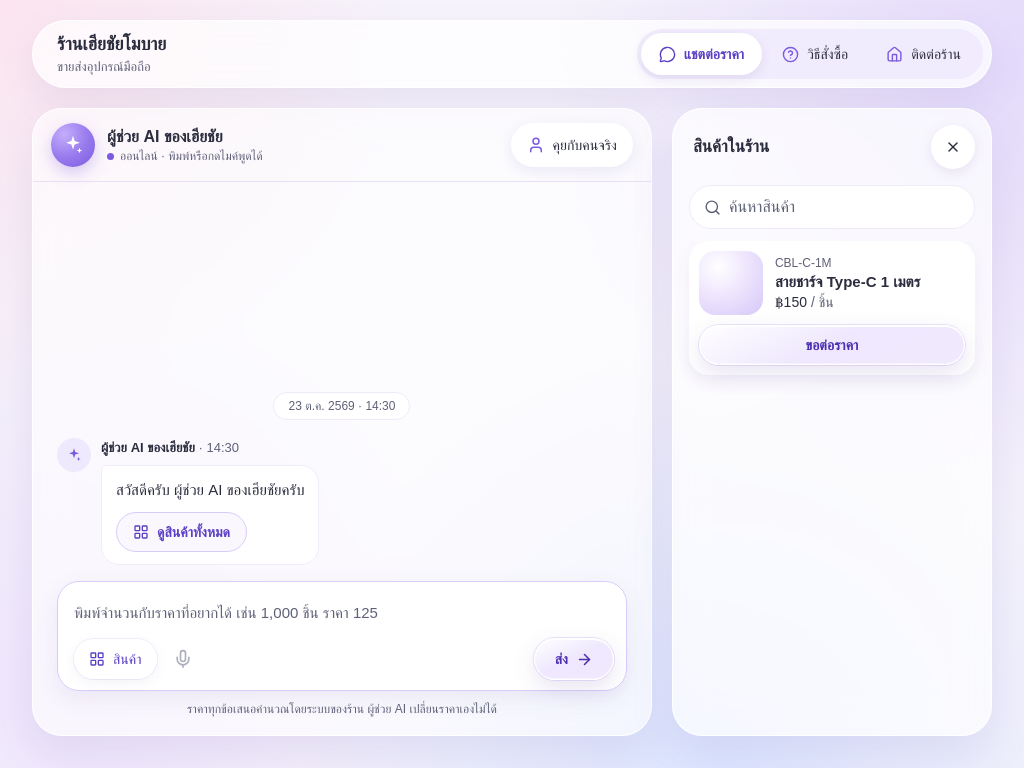
Scenario: ChatScreen — แชตจริง (ผ่าน API) › ส่งไม่สำเร็จ → บอกให้ลองใหม่ และคืนข้อความไว้ในช่องพิมพ์
Type "ขอ 125 ได้ไหม" into the field named "พิมพ์ข้อความ" at (344, 612), box [74,594,614,630]
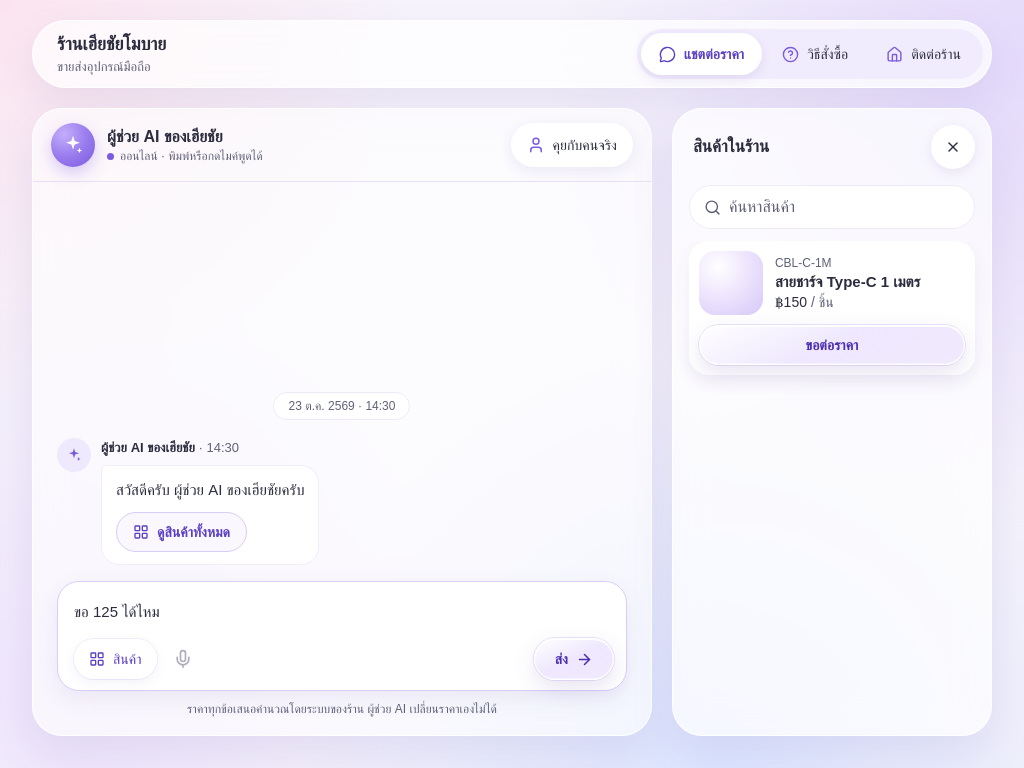
Click the button named "ส่งข้อความ" at (574, 659), box [534,638,614,680]
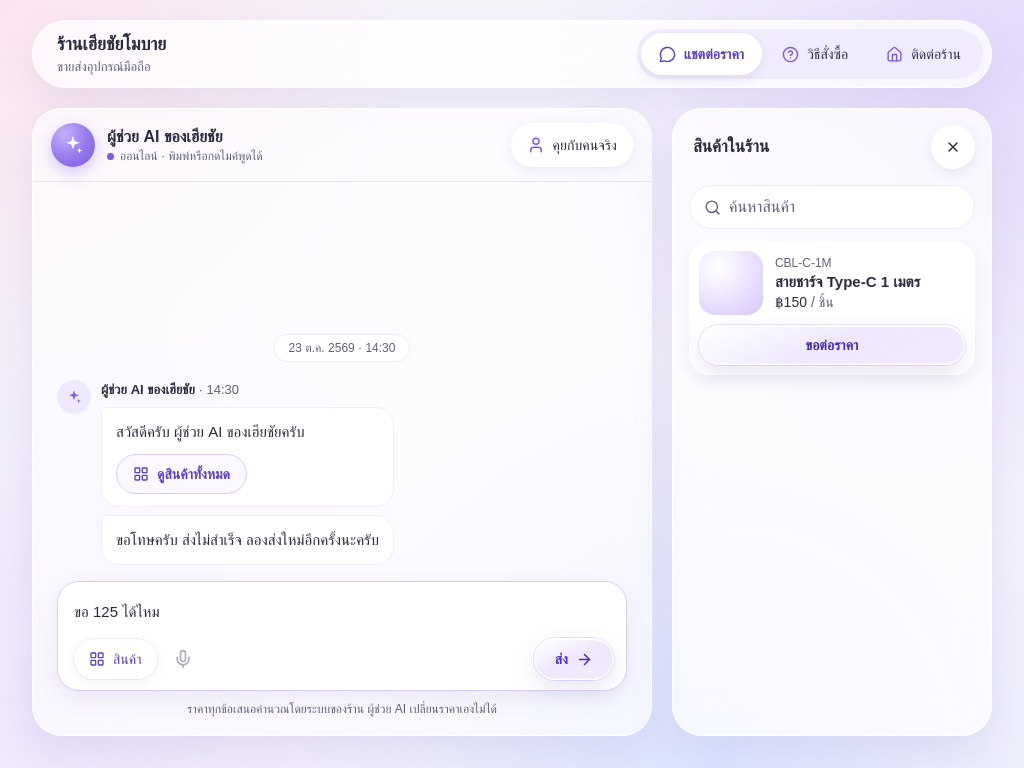
Now the text "ขอโทษครับ ส่งไม่สำเร็จ ลองส่งใหม่อีกครั้งนะครับ" is shown, box [101,515,394,565]
